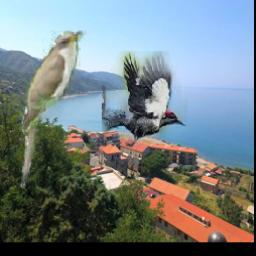Cuckoo: (18, 27, 86, 191)
Woodpecker: (101, 52, 186, 156)
